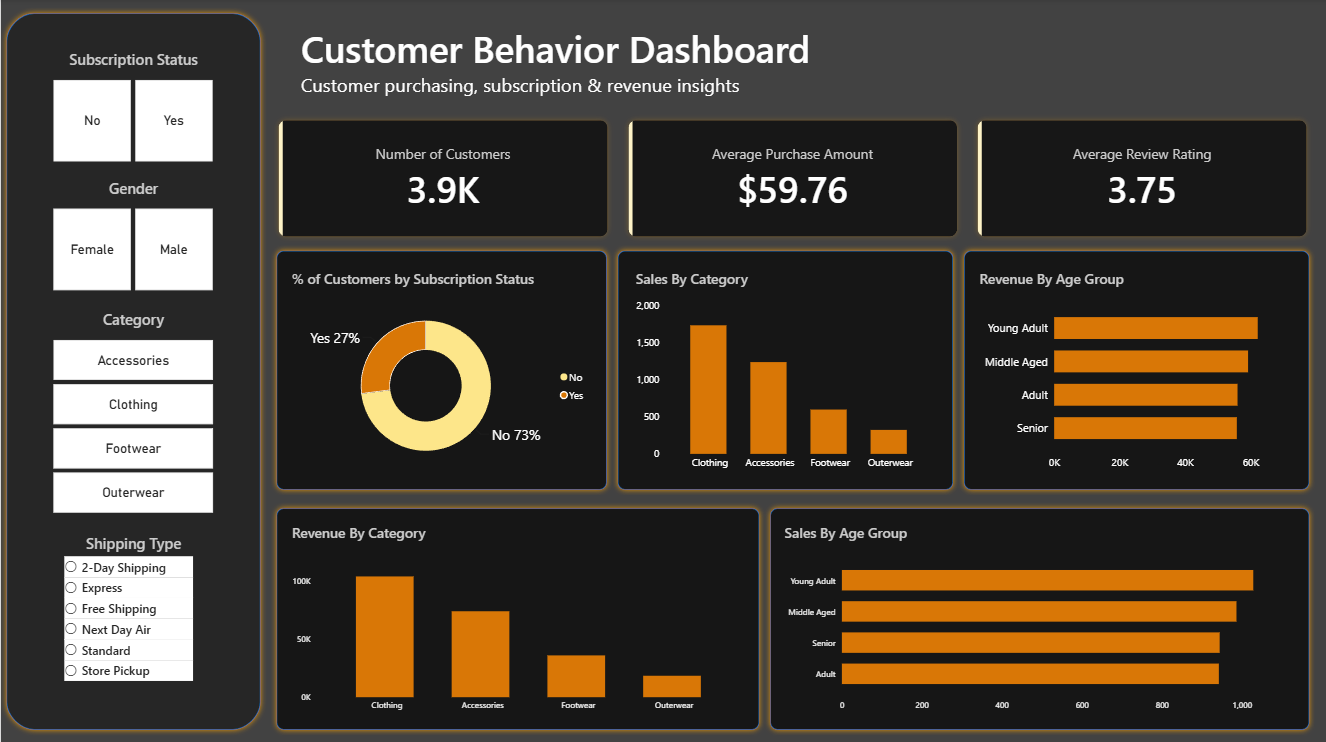

The dashboard page shown, as its layout file describes it:
{"tool":"powerbi","page":{"name":"Page 1","canvas":[1920,1080],"ordinal":0},"visuals":[{"type":"cardVisual","fields":{"Data":["public customer.Number of Customers","public customer.Average Purchase Amount","public customer.Average Review Rating"]},"box":[390.9,164.7,1511.1,190],"z":0},{"type":"textbox","box":[434.3,0,749.2,143],"z":1000},{"type":"shape","box":[390.9,356.5,494,361.9],"z":2000},{"type":"donutChart","title":"% of Customers by Subscription Status","fields":{"Category":["public customer.subscription_status"],"Y":["CountNonNull(public customer.customer_id)"]},"box":[405.4,376.4,463.3,325.7],"z":3000},{"type":"textbox","box":[434.3,34.4,767.3,108.6],"z":4000},{"type":"shape","box":[390.9,729.3,714.8,336.6],"z":5000},{"type":"shape","box":[884.9,356.5,501.3,361.9],"z":6000},{"type":"clusteredColumnChart","title":"Revenue By Category","fields":{"Category":["public customer.category"],"Y":["Sum(public customer.purchase_amount)"]},"box":[405.4,743.8,685.9,307.6],"z":7000},{"type":"clusteredColumnChart","title":"Sales By Category","fields":{"Category":["public customer.category"],"Y":["CountNonNull(public customer.customer_id)"]},"box":[903,376.4,463.3,325.7],"z":8000},{"type":"shape","box":[0,12.7,383.6,1053.2],"z":9000},{"type":"advancedSlicerVisual","fields":{"Values":["public customer.gender"]},"box":[76,258.8,231.6,162.9],"z":10000},{"type":"advancedSlicerVisual","fields":{"Values":["public customer.category"]},"box":[76,448.8,231.6,295],"z":11000},{"type":"listSlicer","fields":{"Values":["public customer.shipping_type"]},"box":[76,758.2,231.6,246.1],"z":12000},{"type":"shape","box":[1386.2,356.5,515.8,361.9],"z":13000},{"type":"clusteredBarChart","title":"Revenue By Age Group","fields":{"Category":["public customer.age_group"],"Y":["Sum(public customer.purchase_amount)"]},"box":[1400.7,376.4,485,325.7],"z":14000},{"type":"shape","box":[1105.7,729.3,796.3,336.6],"z":15000},{"type":"clusteredBarChart","title":"Sales By Age Group","fields":{"Category":["public customer.age_group"],"Y":["CountNonNull(public customer.customer_id)"]},"box":[1118.4,743.8,767.3,307.6],"z":16000},{"type":"advancedSlicerVisual","fields":{"Values":["public customer.subscription_status"]},"box":[76,72.4,231.6,162.9],"z":17000}]}

Visuals, with their boxes in screenshot pixels (x1, y1, x2, y2), scaled from the page's 1920x1080 canvas onto the 1326x742 screenshot:
cardVisual - public customer.Number of Customers x public customer.Average Purchase Amount: (x1=270, y1=113, x2=1314, y2=244)
textbox: (x1=300, y1=0, x2=817, y2=98)
shape: (x1=270, y1=245, x2=611, y2=494)
"% of Customers by Subscription Status" donutChart: (x1=280, y1=259, x2=600, y2=482)
textbox: (x1=300, y1=24, x2=830, y2=98)
shape: (x1=270, y1=501, x2=764, y2=732)
shape: (x1=611, y1=245, x2=957, y2=494)
"Revenue By Category" clusteredColumnChart: (x1=280, y1=511, x2=754, y2=722)
"Sales By Category" clusteredColumnChart: (x1=624, y1=259, x2=944, y2=482)
shape: (x1=0, y1=9, x2=265, y2=732)
advancedSlicerVisual - public customer.gender: (x1=52, y1=178, x2=212, y2=290)
advancedSlicerVisual - public customer.category: (x1=52, y1=308, x2=212, y2=511)
listSlicer - public customer.shipping_type: (x1=52, y1=521, x2=212, y2=690)
shape: (x1=957, y1=245, x2=1314, y2=494)
"Revenue By Age Group" clusteredBarChart: (x1=967, y1=259, x2=1302, y2=482)
shape: (x1=764, y1=501, x2=1314, y2=732)
"Sales By Age Group" clusteredBarChart: (x1=772, y1=511, x2=1302, y2=722)
advancedSlicerVisual - public customer.subscription_status: (x1=52, y1=50, x2=212, y2=162)
